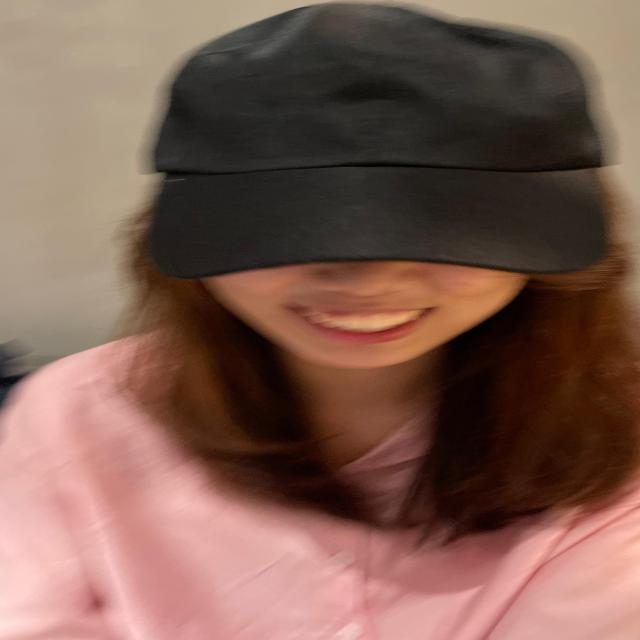3_gorra: (138, 3, 619, 284)
